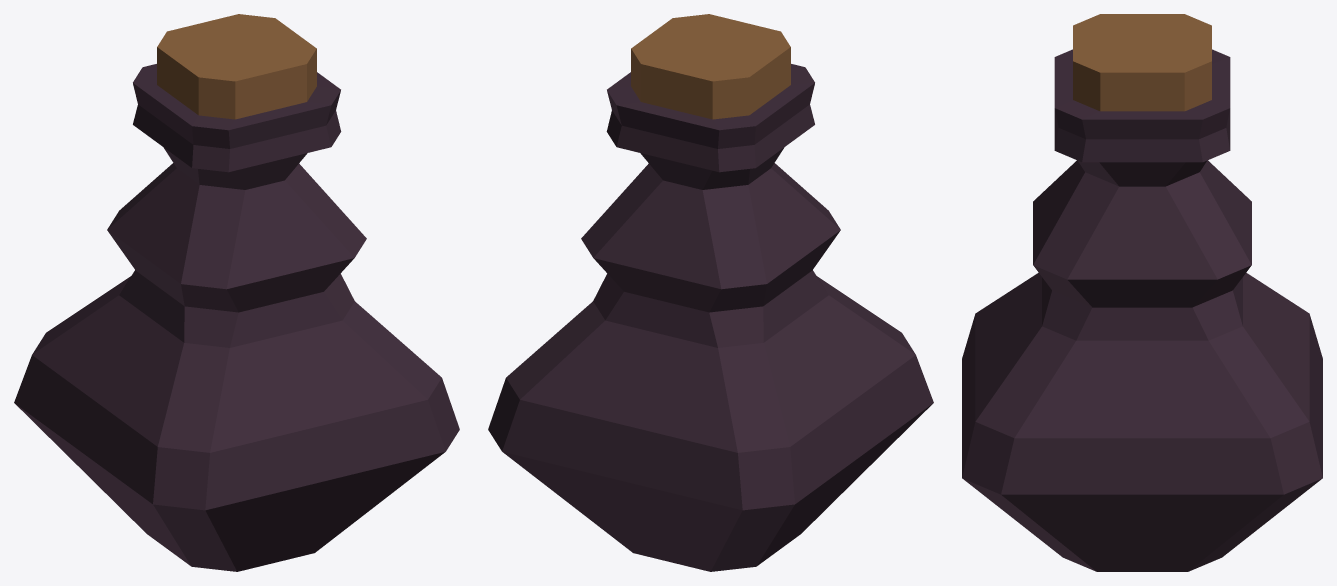
The model's file is prop_bottle_2.glb.
3 renders of one model, left to right at view 1: azimuth 30°, elevation 25°; view 2: azimuth 150°, elevation 25°; view 3: azimuth 270°, elevation 25°, orthographic.
Visible parts, largest first — view 1: Prop_Bottle_2; view 2: Prop_Bottle_2; view 3: Prop_Bottle_2.
Boxes of the visible parts, <box> form: Prop_Bottle_2: <box>14,14,459,571</box>; Prop_Bottle_2: <box>488,14,933,571</box>; Prop_Bottle_2: <box>962,14,1322,571</box>.
Bounding box in the file's own units: 0.3079 × 0.4659 × 0.3079.
Materials: 1 (1 with a texture image).
